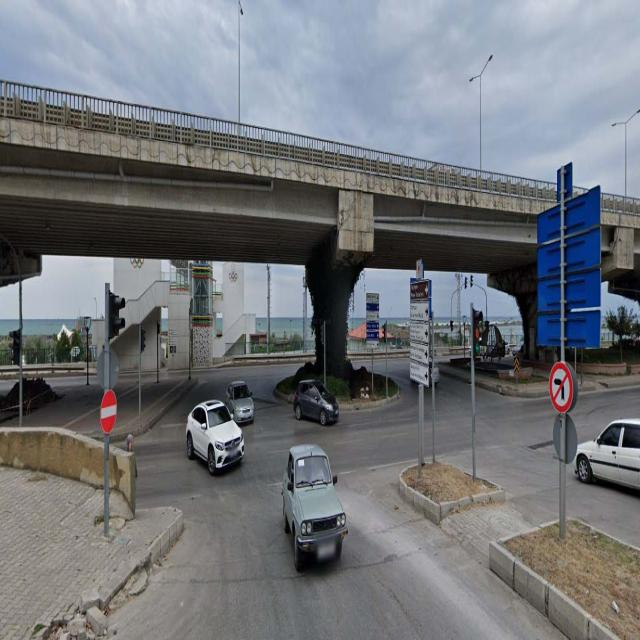girisyok: (100, 388, 118, 435)
soladonulmez: (548, 361, 573, 413)
